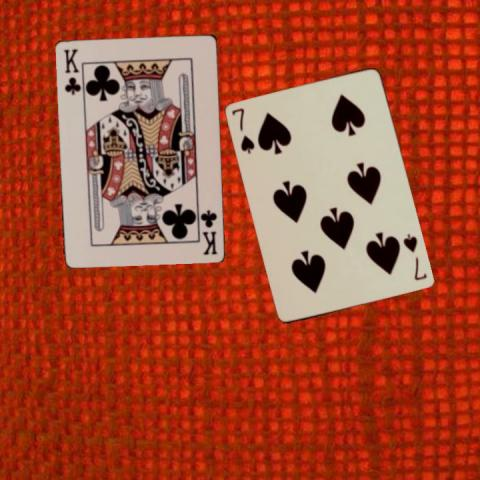7s: (400, 231, 428, 282), (229, 105, 257, 155)
Kc: (197, 207, 218, 256), (60, 45, 80, 96)
